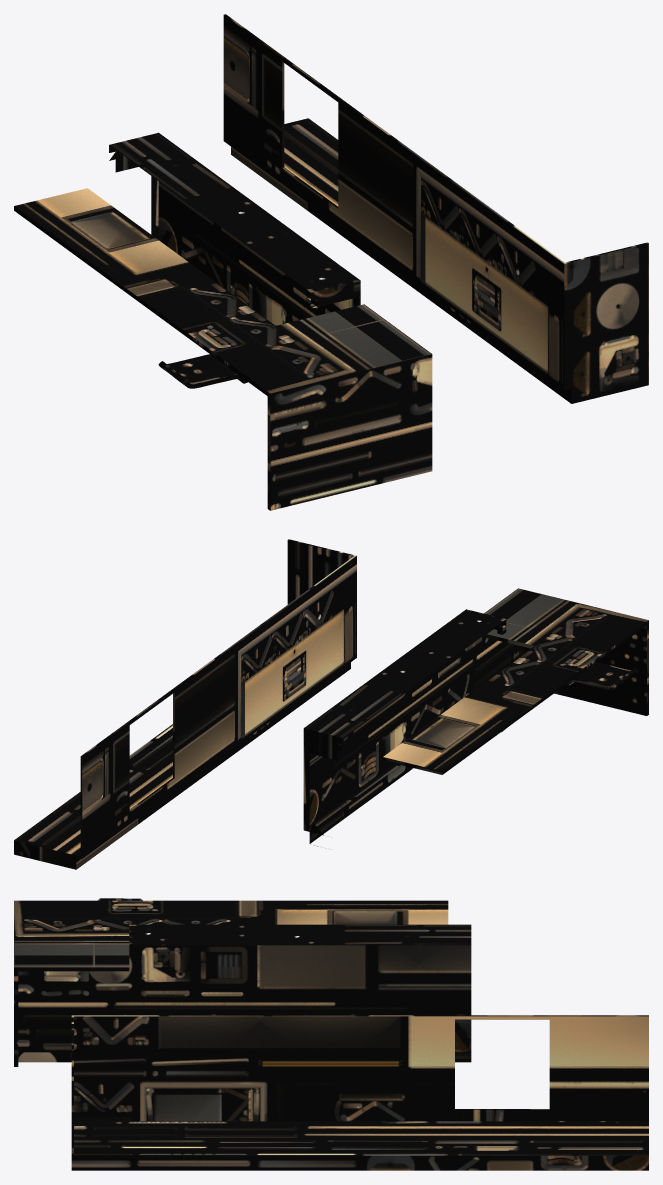
Rendered from simple_house_-_kitchen_6.obj.
The picture shows the model from 3 angles, top to bottom: view 1: azimuth 30°, elevation 25°; view 2: azimuth 150°, elevation 25°; view 3: azimuth 270°, elevation 25°; orthographic projection. The views are drawn at different scales.
Bounding box in the file's own units: 3.05 × 0.92 × 4.4.
